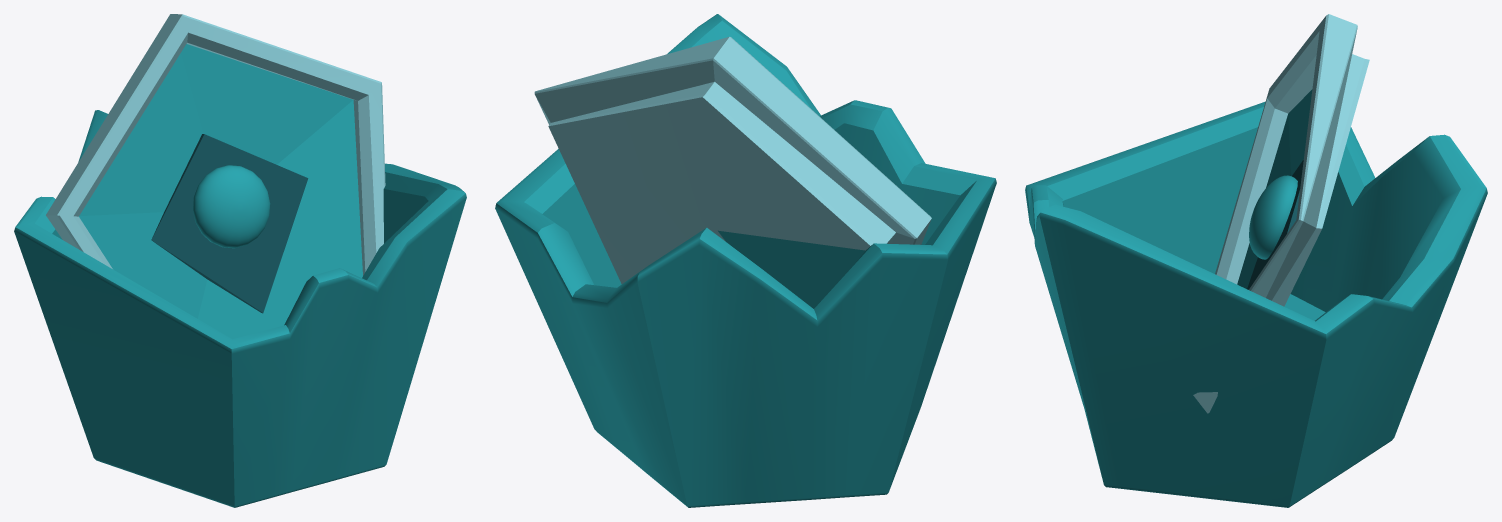
Rendered from Broken Relic Standing Up.fbx.
3 renders of one model, left to right at view 1: azimuth 30°, elevation 25°; view 2: azimuth 150°, elevation 25°; view 3: azimuth 270°, elevation 25°, orthographic. The views are drawn at different scales.
Parts seen in each view (by area): view 1: polySurface30; view 2: polySurface30; view 3: polySurface30.
Boxes of the visible parts, bbox=[...] form: polySurface30: bbox=[14, 14, 466, 507]; polySurface30: bbox=[495, 14, 996, 507]; polySurface30: bbox=[1025, 14, 1487, 507].
Size of the model in its own units: 0.5084 by 0.4969 by 0.4913.
